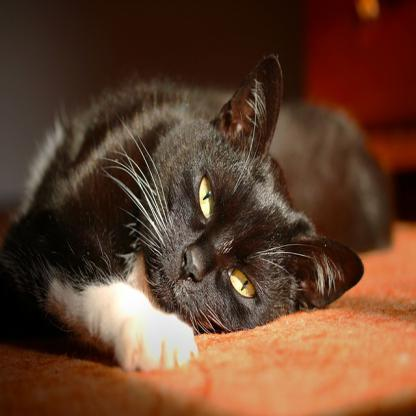cat: (67, 50, 364, 373)
